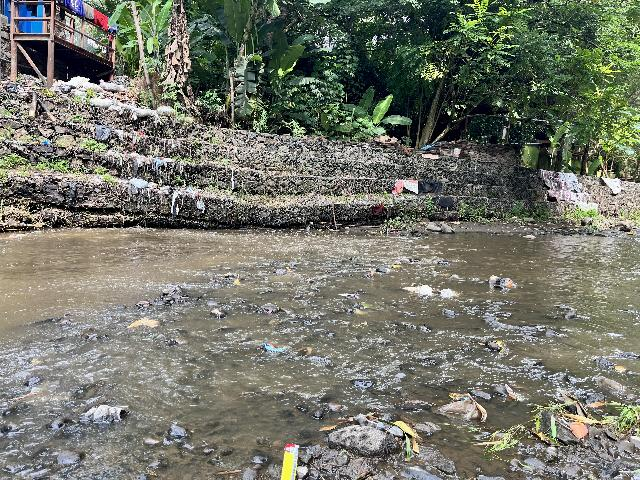Sampah Anorganik: (438, 390, 487, 423), (280, 440, 302, 480), (495, 381, 527, 404), (485, 272, 517, 292), (404, 285, 433, 296), (262, 341, 285, 351), (337, 293, 362, 300), (441, 288, 456, 298), (390, 264, 400, 268), (305, 278, 313, 282)
Sampah Organik: (533, 395, 640, 443), (326, 415, 428, 454), (0, 386, 53, 405), (123, 316, 163, 330), (351, 302, 371, 316), (215, 468, 244, 474), (492, 338, 505, 348), (613, 365, 627, 374), (297, 346, 312, 354), (134, 300, 150, 305), (285, 267, 292, 273), (266, 309, 276, 313), (233, 278, 238, 284), (369, 271, 374, 275)
